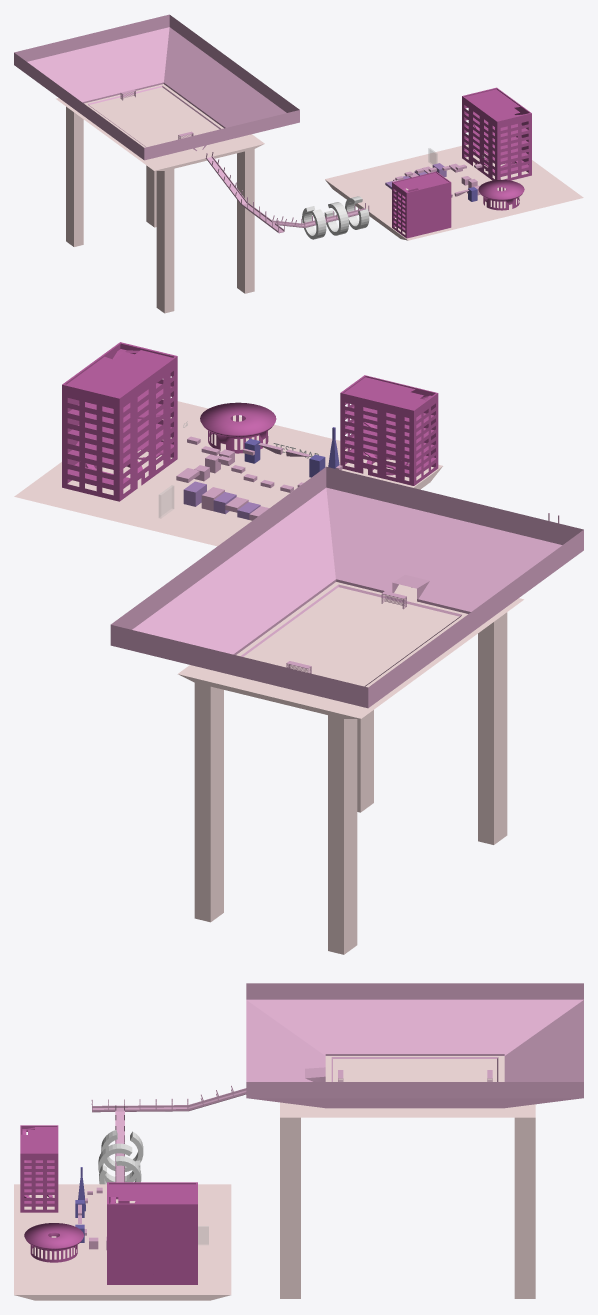
File: small.glb
3 views of the same model, one above another, from view 1: azimuth 30°, elevation 25°; view 2: azimuth 150°, elevation 25°; view 3: azimuth 270°, elevation 25° (orthographic). The views are drawn at different scales.
Parts seen in each view (by area): view 1: Cube.032, Cube.033, Cube, Cube.034, Cube.035, Circle.001, Circle, pont1.001; view 2: Cube.032, Cube.033, Cube, Cube.034, Cube.035, Circle; view 3: Cube.032, Cube.033, Cube, Cube.034, Cube.035, Circle, Circle.001, pont1.002, pont1.001.
Part boxes in pixels (bbox=[...]): Cube.032: bbox=[14, 14, 299, 160]; Cube.033: bbox=[56, 84, 264, 313]; Cube: bbox=[325, 144, 583, 240]; Cube.034: bbox=[462, 87, 531, 180]; Cube.035: bbox=[392, 171, 451, 238]; Circle.001: bbox=[302, 196, 369, 239]; Circle: bbox=[478, 179, 524, 210]; pont1.001: bbox=[205, 152, 246, 204]; Cube.032: bbox=[110, 466, 583, 708]; Cube.033: bbox=[178, 582, 523, 954]; Cube: bbox=[14, 399, 442, 546]; Cube.034: bbox=[62, 342, 177, 501]; Cube.035: bbox=[340, 375, 438, 485]; Circle: bbox=[200, 402, 276, 453]; Cube.032: bbox=[246, 983, 583, 1108]; Cube.033: bbox=[280, 1056, 535, 1298]; Cube: bbox=[14, 1184, 231, 1300]; Cube.034: bbox=[107, 1182, 197, 1284]; Cube.035: bbox=[20, 1125, 58, 1212]; Circle: bbox=[24, 1223, 83, 1262]; Circle.001: bbox=[98, 1130, 143, 1184]; pont1.002: bbox=[91, 1098, 188, 1112]; pont1.001: bbox=[187, 1085, 246, 1111].
Size of the model in its own units: 590 by 295 by 642.
